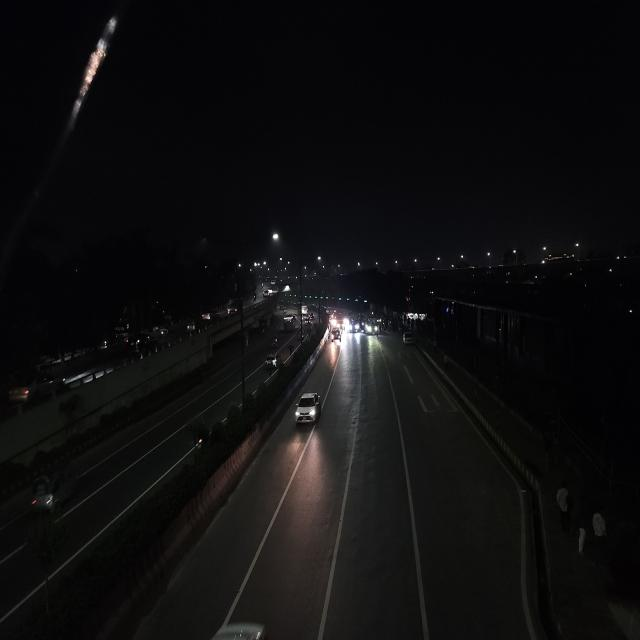bus: (348, 310, 363, 332), (364, 314, 378, 335), (284, 314, 296, 332)
car: (293, 393, 323, 432), (125, 332, 157, 353), (202, 308, 220, 321), (402, 331, 414, 349), (265, 354, 281, 367), (331, 327, 342, 343), (261, 289, 271, 296)
cng: (185, 316, 199, 332), (268, 334, 280, 349)
motorcycle: (251, 293, 257, 301)
truck: (224, 298, 240, 314)
